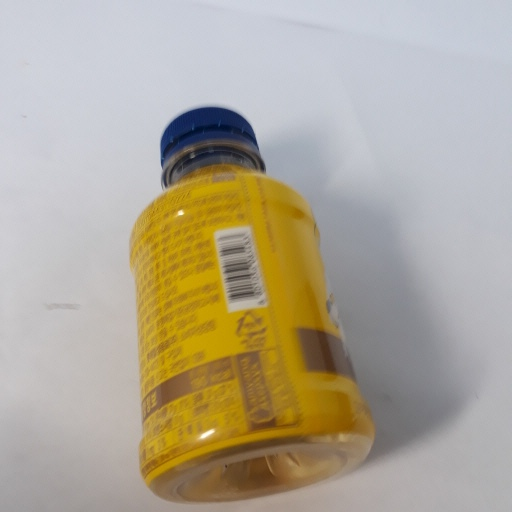Plastic_0: (128, 106, 382, 505)
